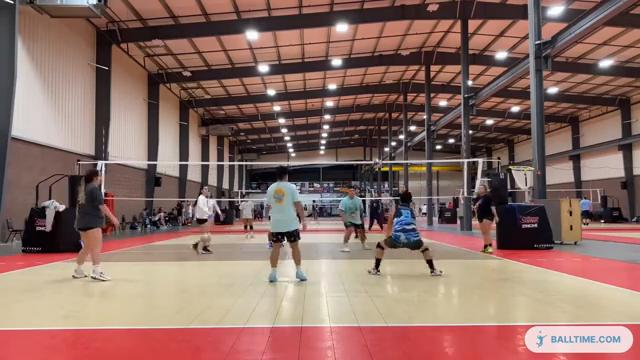Player: (72, 169, 118, 280), (266, 166, 306, 281), (338, 188, 368, 251), (192, 186, 219, 253), (475, 184, 498, 252), (240, 194, 254, 238), (368, 199, 383, 230)
Receive: (360, 188, 447, 276)
ball: (372, 158, 383, 169)
